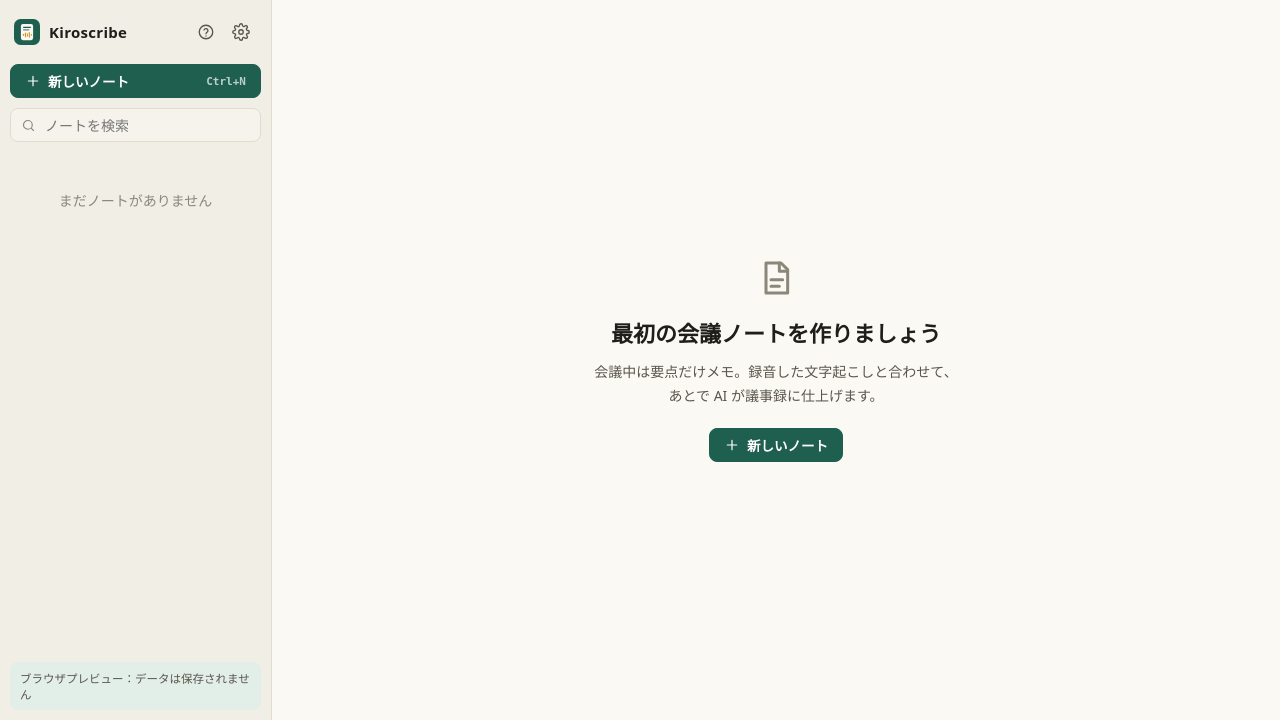
Scenario: App › [NOTE-001][NOTE-009] 新しいノートを作ってタイトルとメモを書くと、一覧に反映され保存される
The image size is (1280, 720).
Click the button "新しいノート Ctrl+N". click: (136, 81)
box: [10,64,261,98]
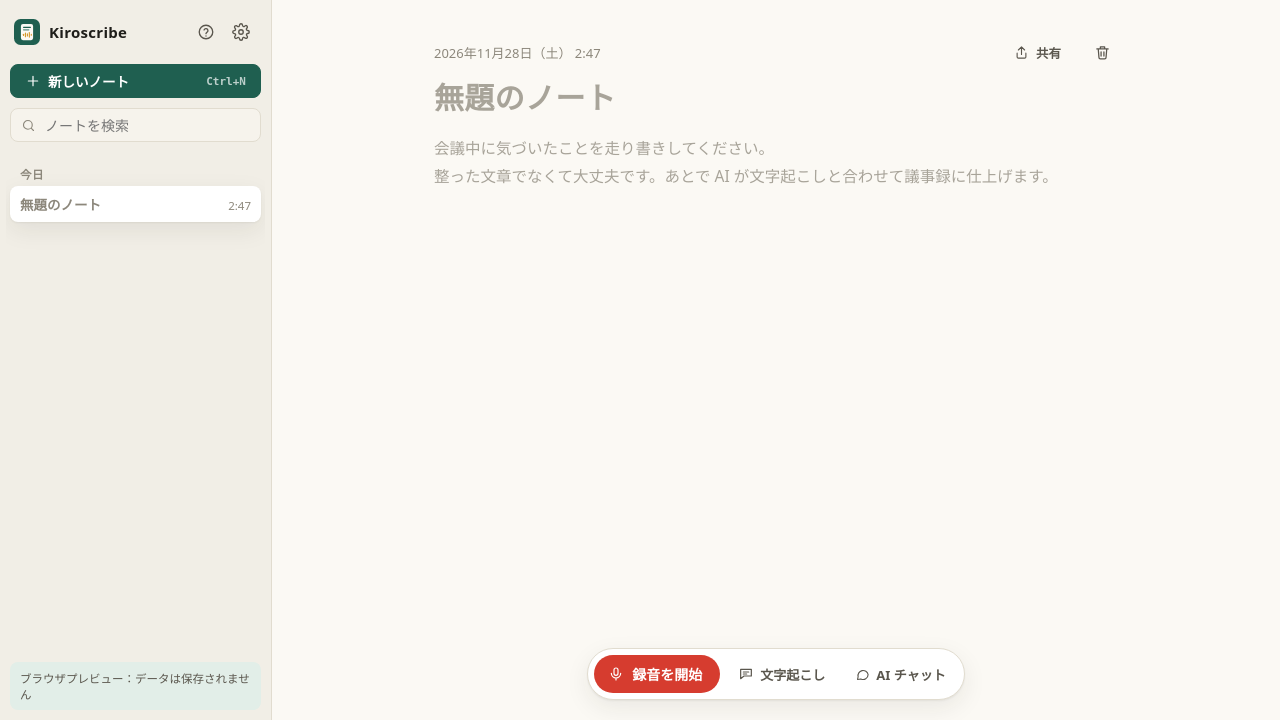
Type "週次定例" into the field named "タイトル". click: (776, 98)
box: [434,74,1118,121]
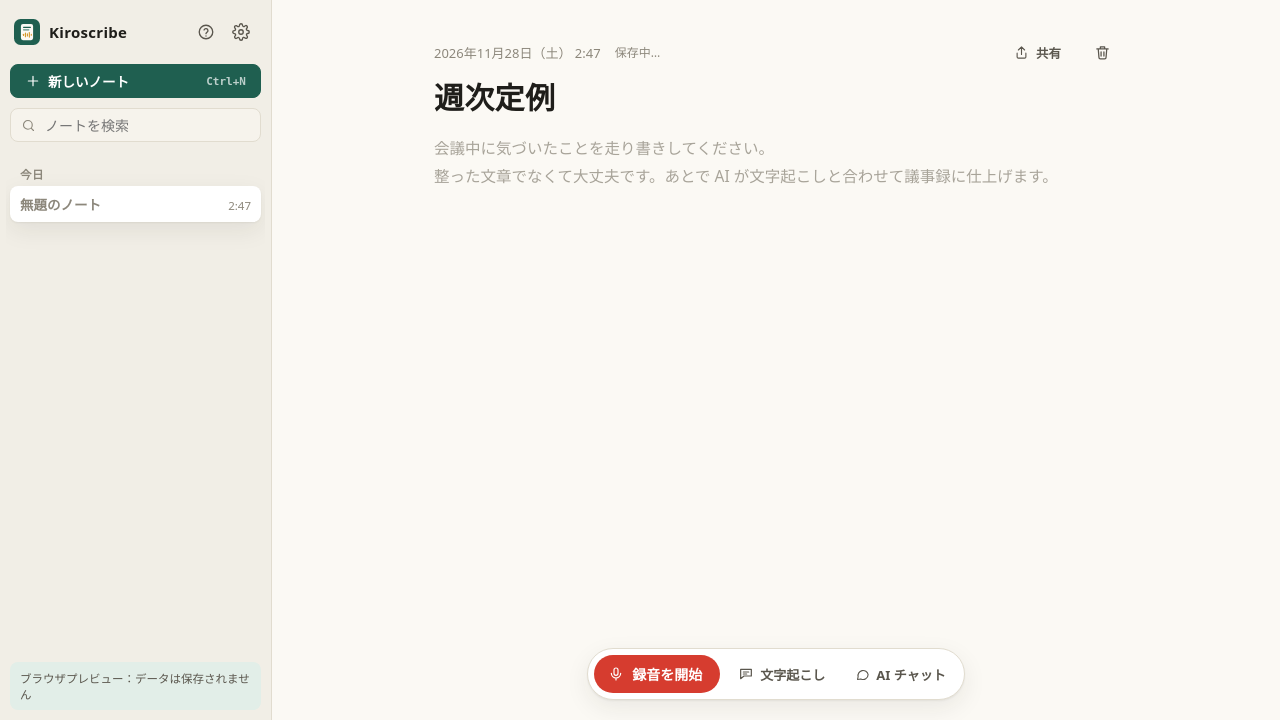
Type "- リリース日を確認" into the text box named "自分のメモ". click: (776, 351)
box: [434,135,1118,567]
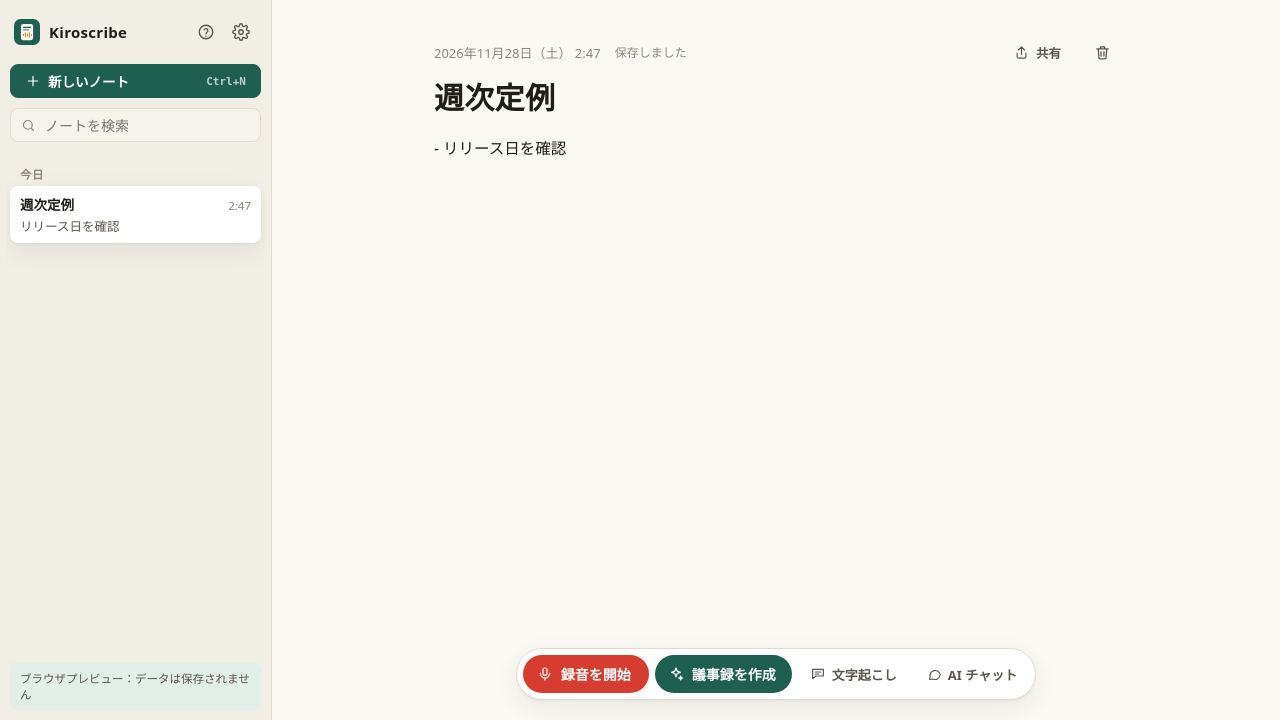
Expected: the text "週次定例" is shown, [20,196,74,214]
Expected: the text "リリース日を確認" is shown, [20,218,119,235]
